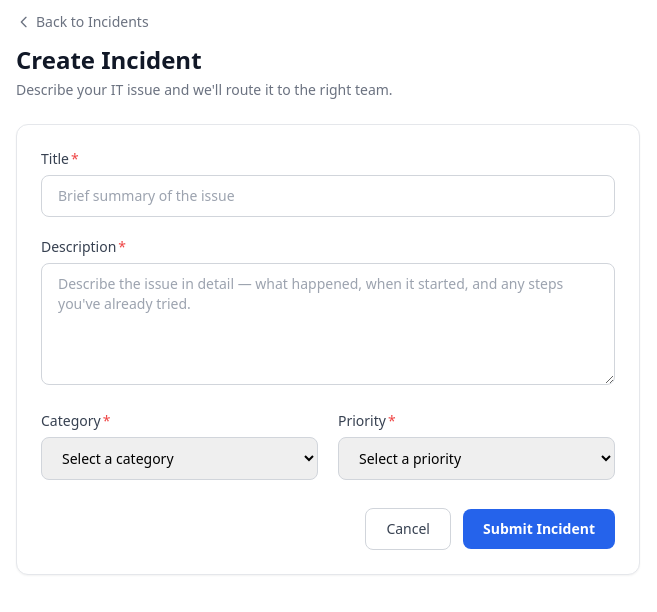
Test: CreateIncidentPage › shows a category error when not selected
The width and height of the screenshot is (657, 612).
Type "Some title" into the field labelled "Title*" at (328, 196), box x1=41 y1=175 x2=615 y2=217
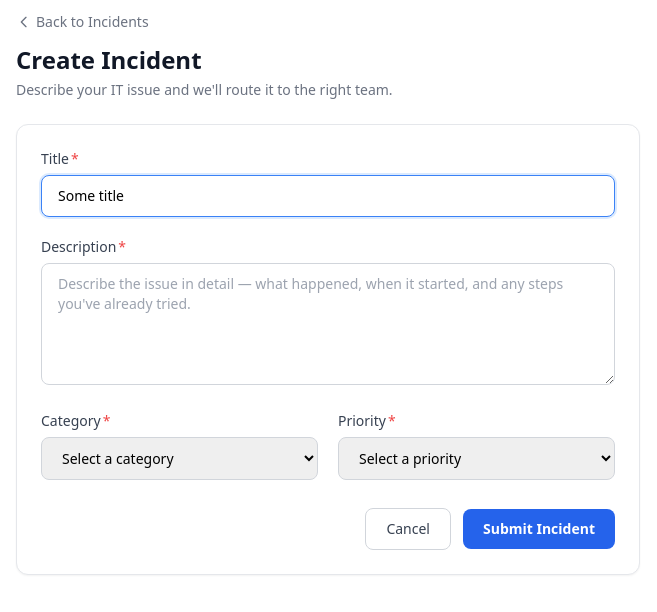
Type "Some description" into the text box labelled "Description*" at (328, 324), box x1=41 y1=263 x2=615 y2=385
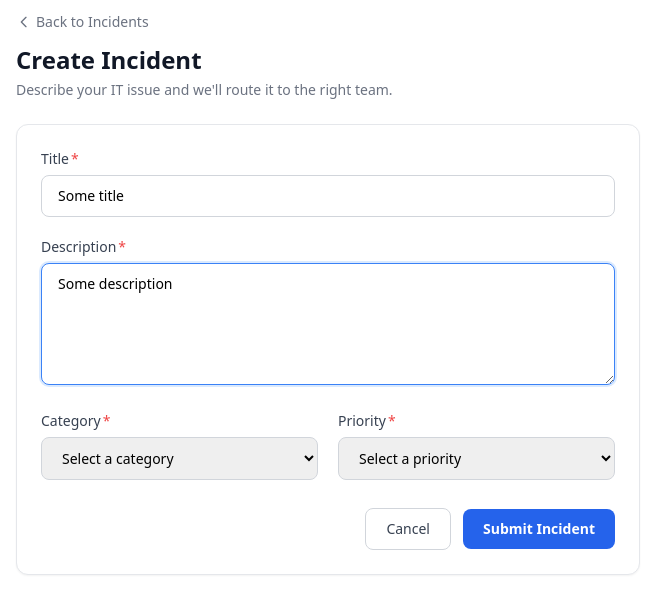
Click the button "Submit Incident" at (539, 529), box x1=463 y1=509 x2=615 y2=549
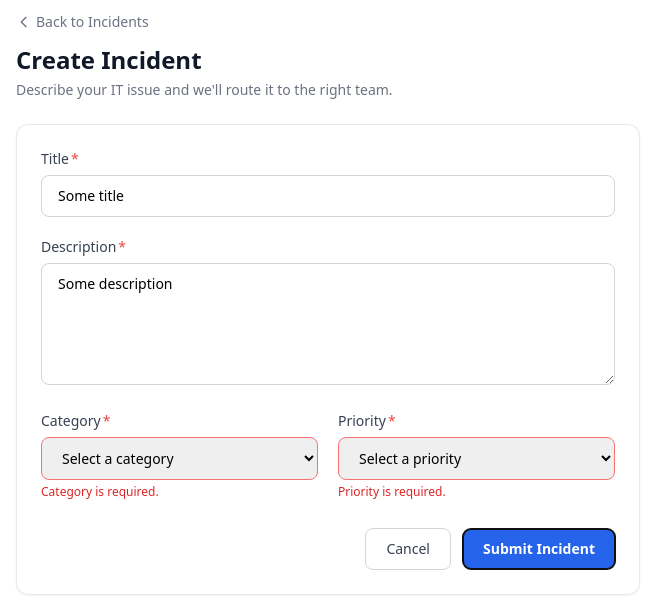
Expected: the text "Category is required." is shown, x1=41 y1=483 x2=159 y2=500
